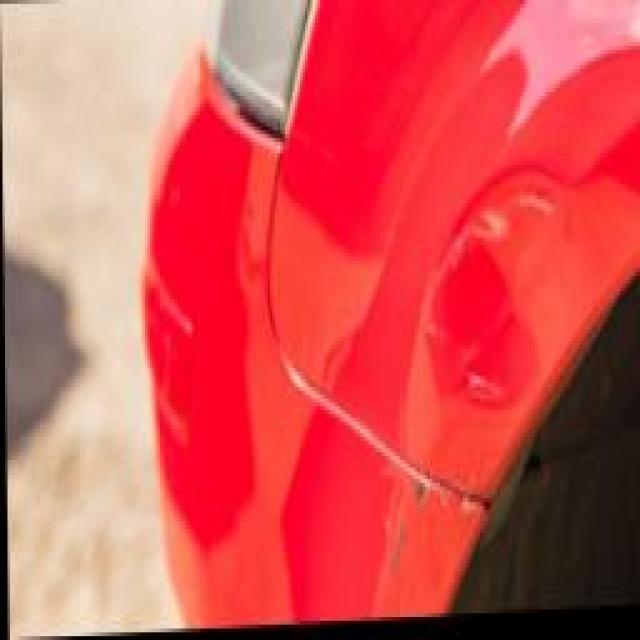Bumper: (342, 460, 479, 627)
Fender: (378, 134, 598, 443)
